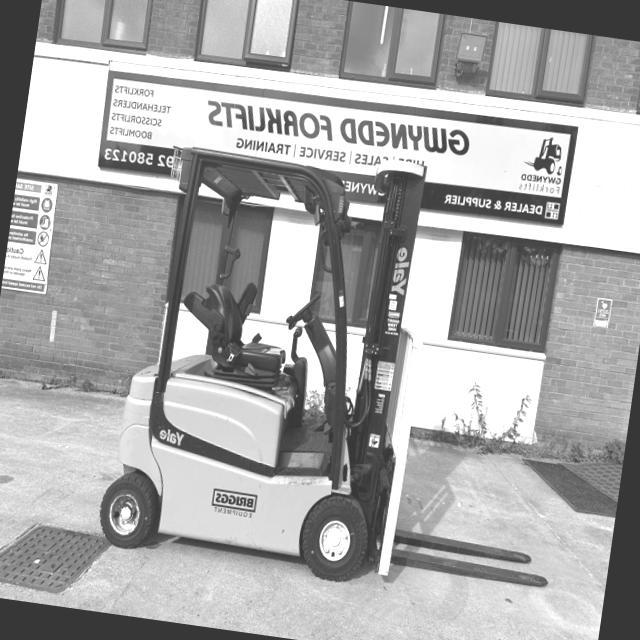forklift: (69, 121, 478, 608)
